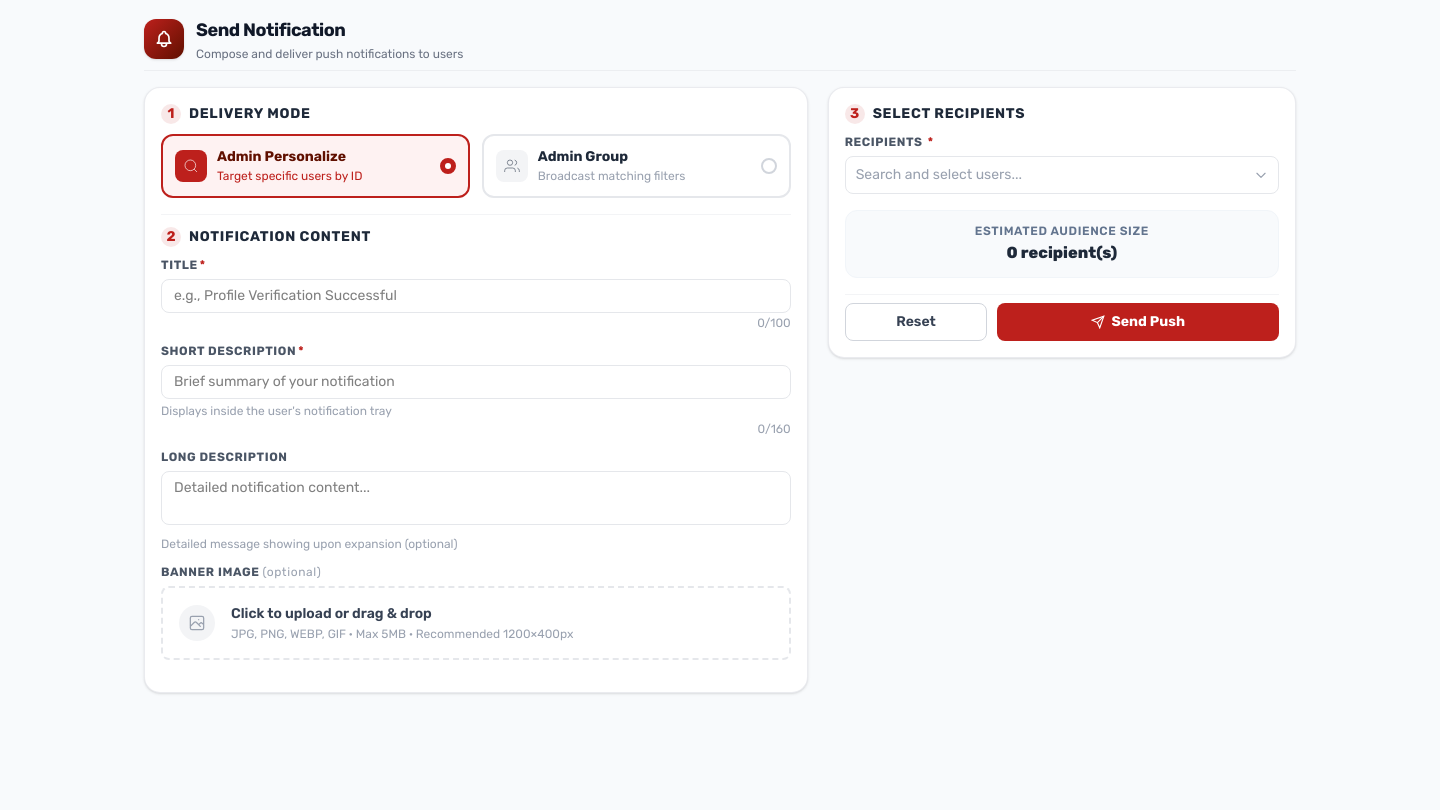
Test: NotificationManagement Component › should display validation errors when Title and Short Description are empty on submit
// Click Send Push button without filling form
Click the button "Send Push": (1138,322) x1=997 y1=303 x2=1279 y2=341
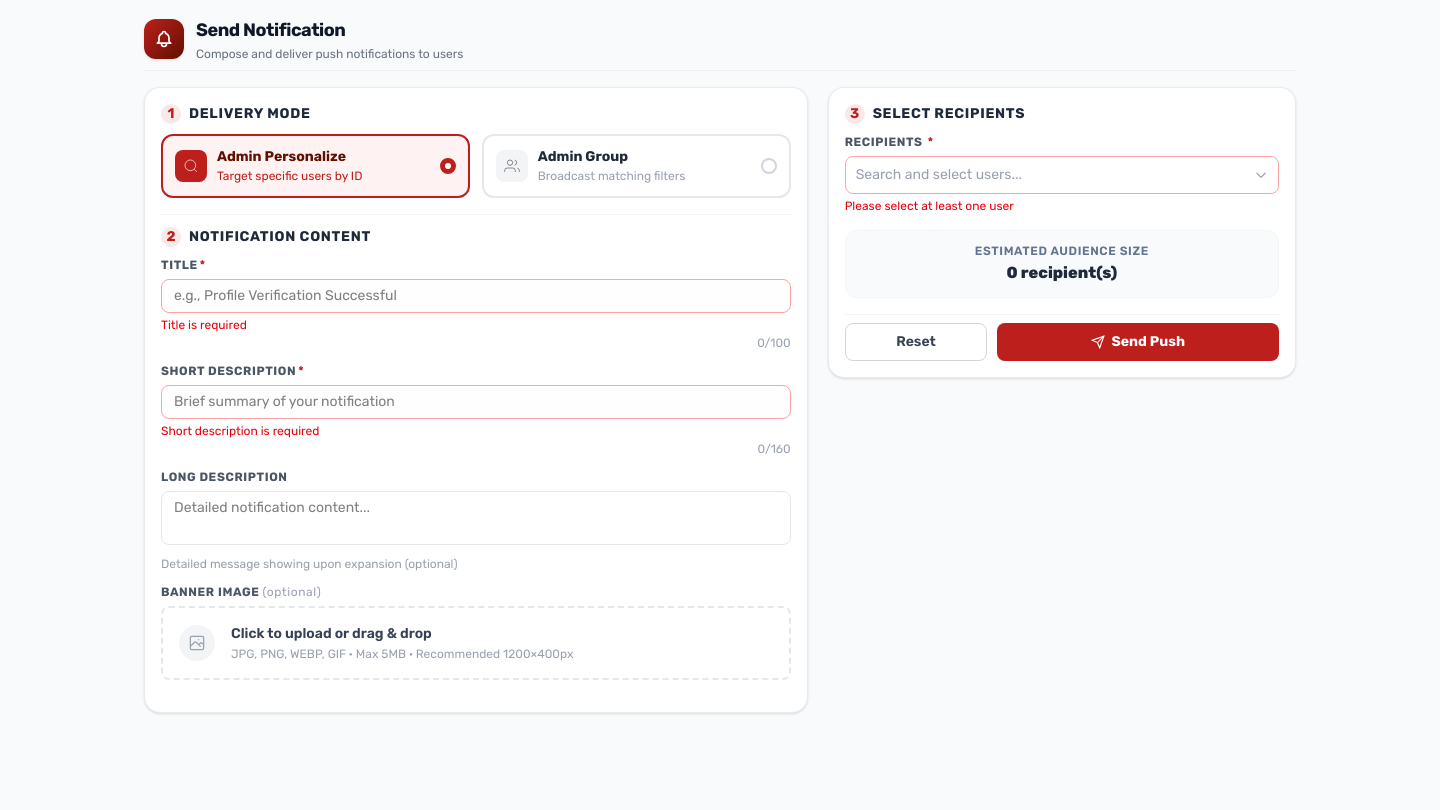
Check: the text "Title is required" is shown, box x1=161 y1=318 x2=247 y2=332
Check: the text "Short description is required" is shown, box x1=161 y1=424 x2=319 y2=438
